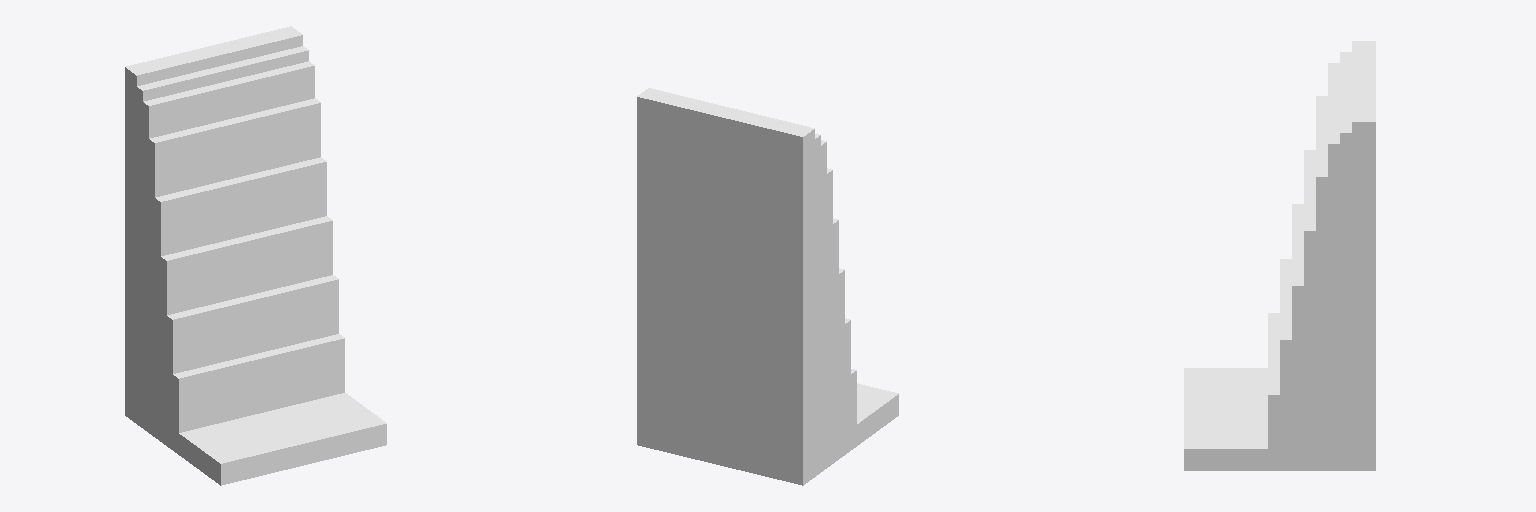
File: Mountain_side_1.obj
The picture shows the model from 3 angles: view 1: azimuth 30°, elevation 25°; view 2: azimuth 150°, elevation 25°; view 3: azimuth 270°, elevation 25°; orthographic projection.
Parts seen in each view (by area): view 1: object 1; view 2: object 1; view 3: object 1.
Boxes of the visible parts, <box> form: object 1: <box>125,26,386,485</box>; object 1: <box>637,88,898,485</box>; object 1: <box>1184,41,1375,470</box>.
Bounding box in the file's own units: 1.6 × 3.2 × 1.6.